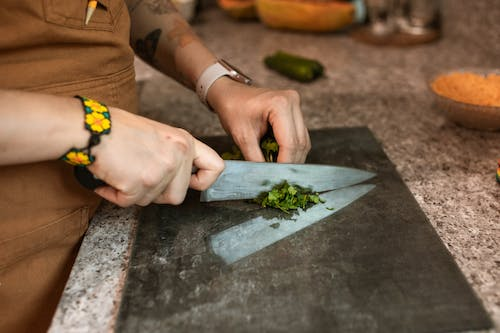knife: (199, 160, 380, 203)
